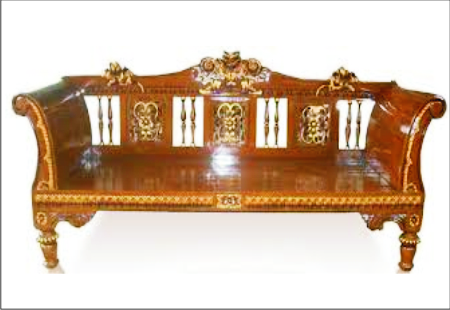Carving Chair: (27, 66, 427, 274)
